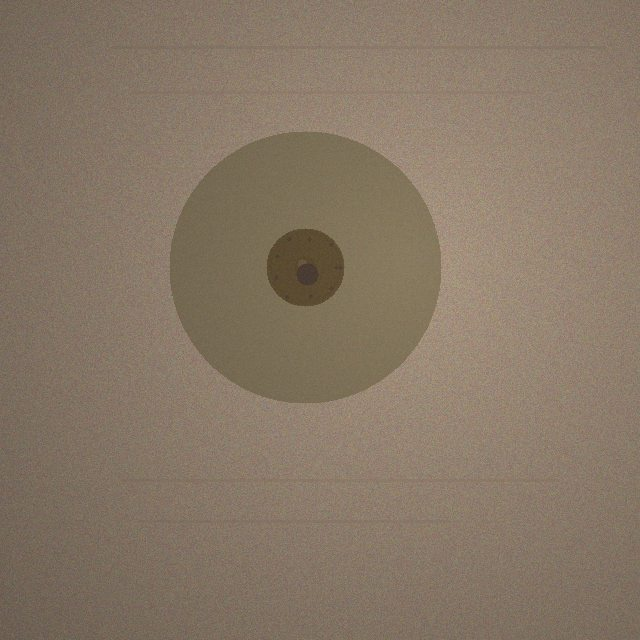cold_weld: (169, 131, 441, 403)
